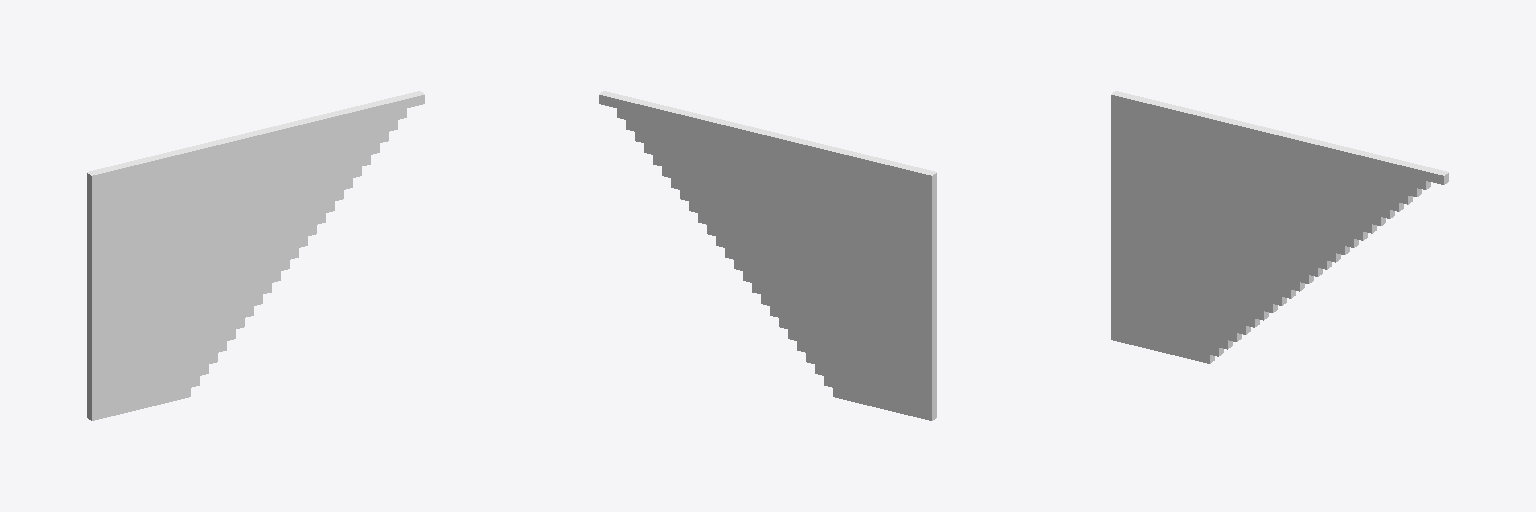
File: stege2_parts1.obj
3 renders of one model, left to right at view 1: azimuth 30°, elevation 25°; view 2: azimuth 150°, elevation 25°; view 3: azimuth 330°, elevation 25°, orthographic.
Visible parts, largest first — view 1: object 1; view 2: object 1; view 3: object 1.
Part boxes in pixels (x1,y1,x2,y2): object 1: (87, 91, 424, 420); object 1: (599, 91, 936, 420); object 1: (1111, 91, 1448, 363).
Size of the model in its own units: 3.7 by 2.6 by 0.1.